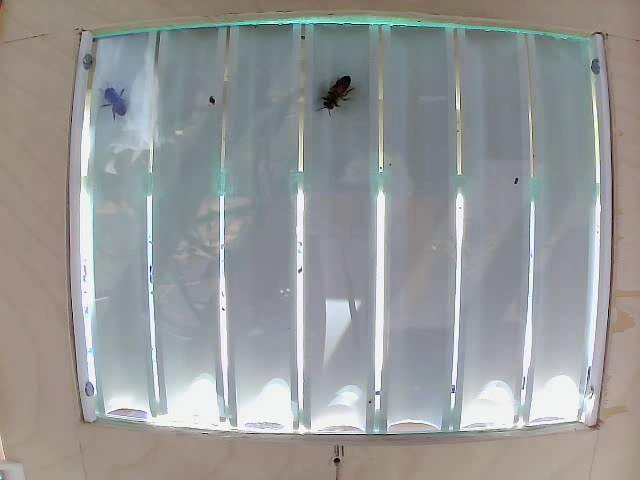bee: (312, 68, 367, 127), (102, 77, 141, 130)
